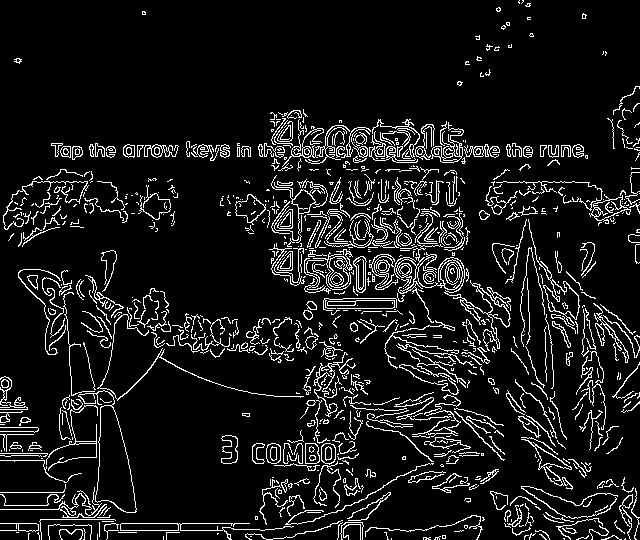down: (389, 192, 429, 234)
left: (133, 187, 176, 227)
right: (227, 188, 272, 231)
up: (285, 182, 323, 221)
